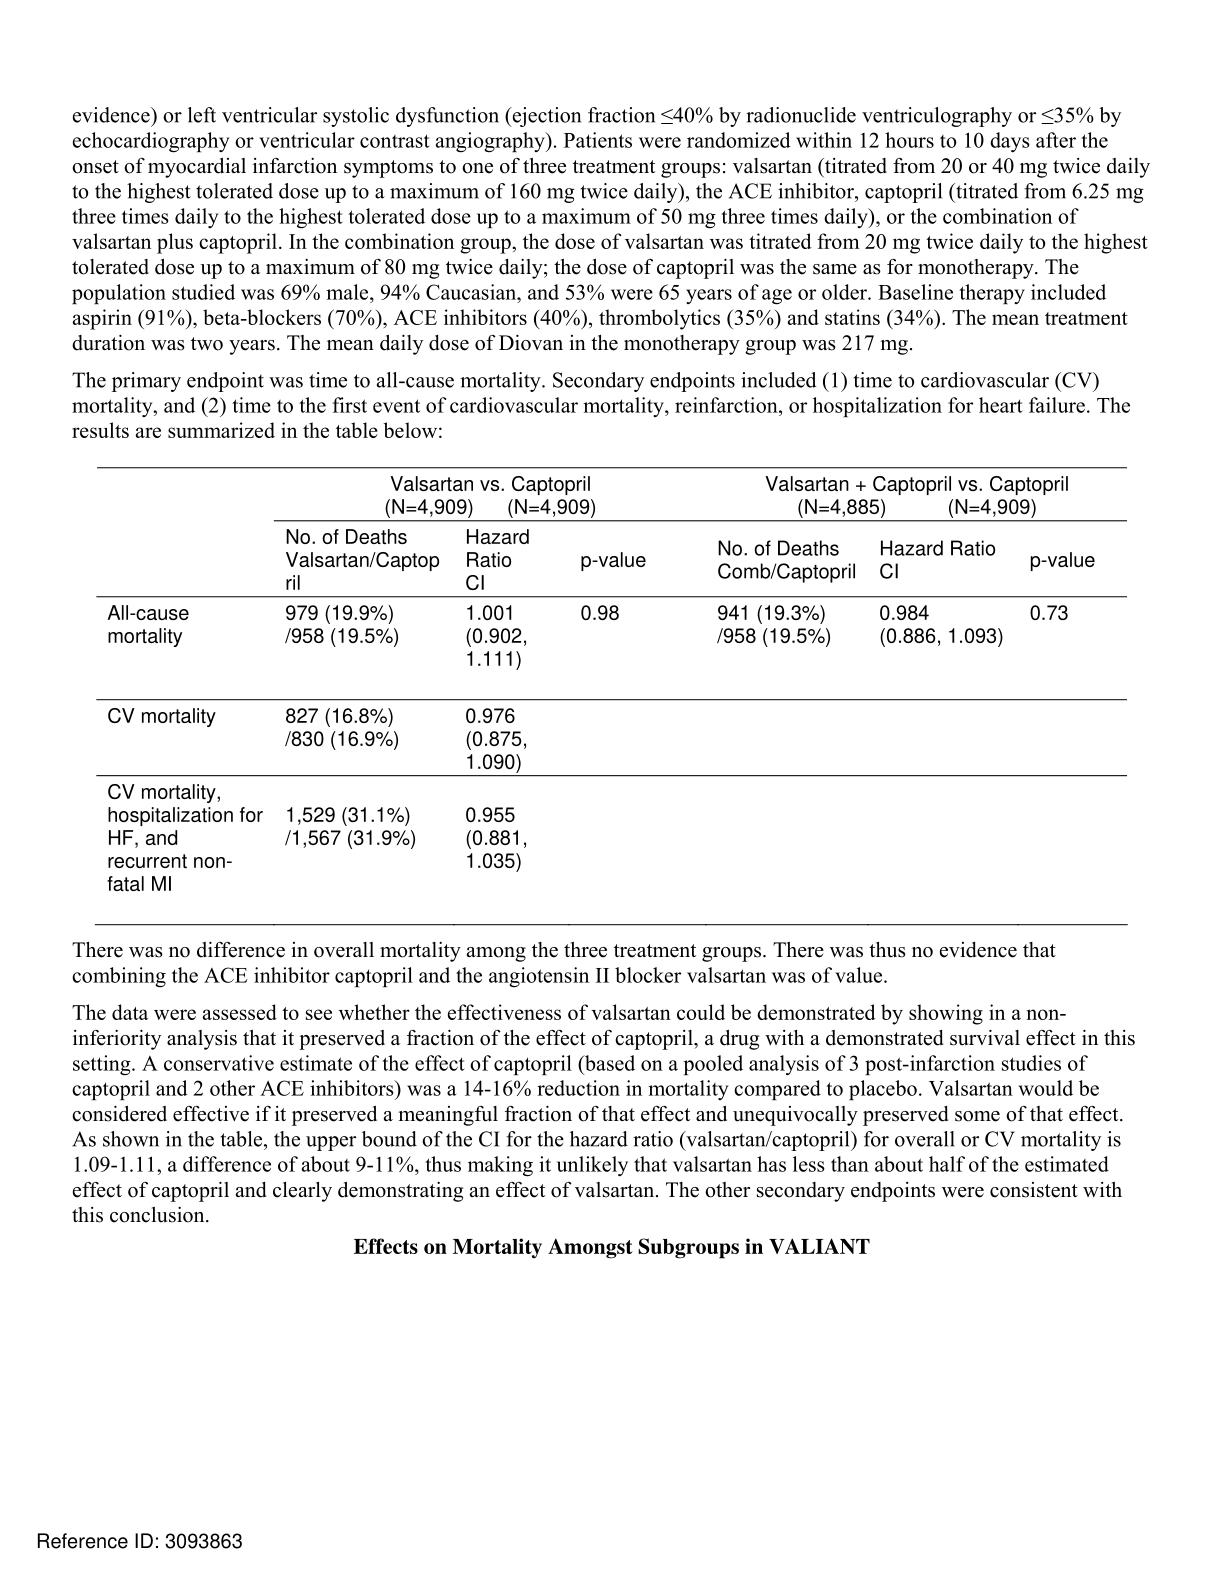partial_lined_merged_cells: (95, 465, 1128, 926)
